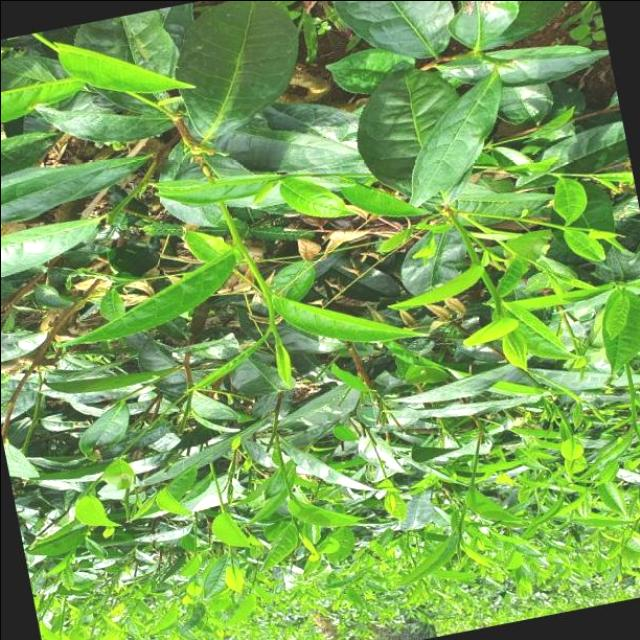Stem: (268, 318, 274, 326), (631, 423, 636, 428)
